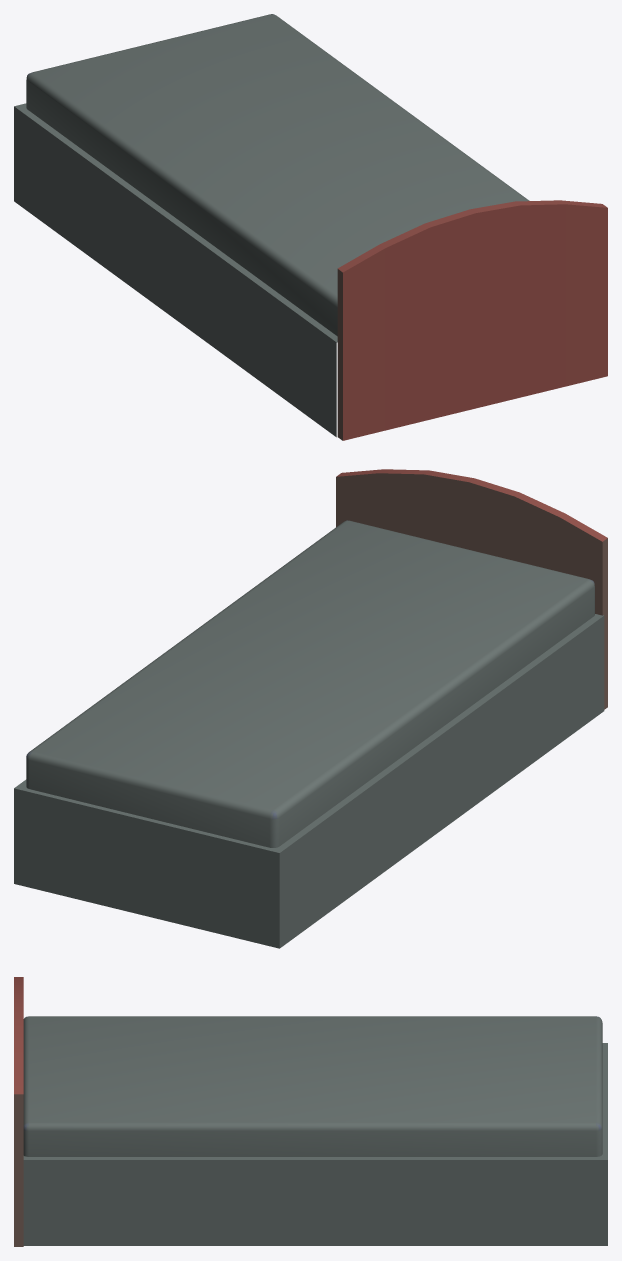
Rendered from SingleBed.fbx.
3 renders of one model, top to bottom at view 1: azimuth 30°, elevation 25°; view 2: azimuth 150°, elevation 25°; view 3: azimuth 270°, elevation 25°, orthographic. The views are drawn at different scales.
Visible parts, largest first — view 1: SingleBed; view 2: SingleBed; view 3: SingleBed.
Part boxes in pixels (x1=…): SingleBed: x1=14, y1=14, x2=607, y2=440; SingleBed: x1=14, y1=469, x2=607, y2=948; SingleBed: x1=14, y1=977, x2=607, y2=1246.
Size of the model in its own units: 91.24 by 63.96 by 194.
